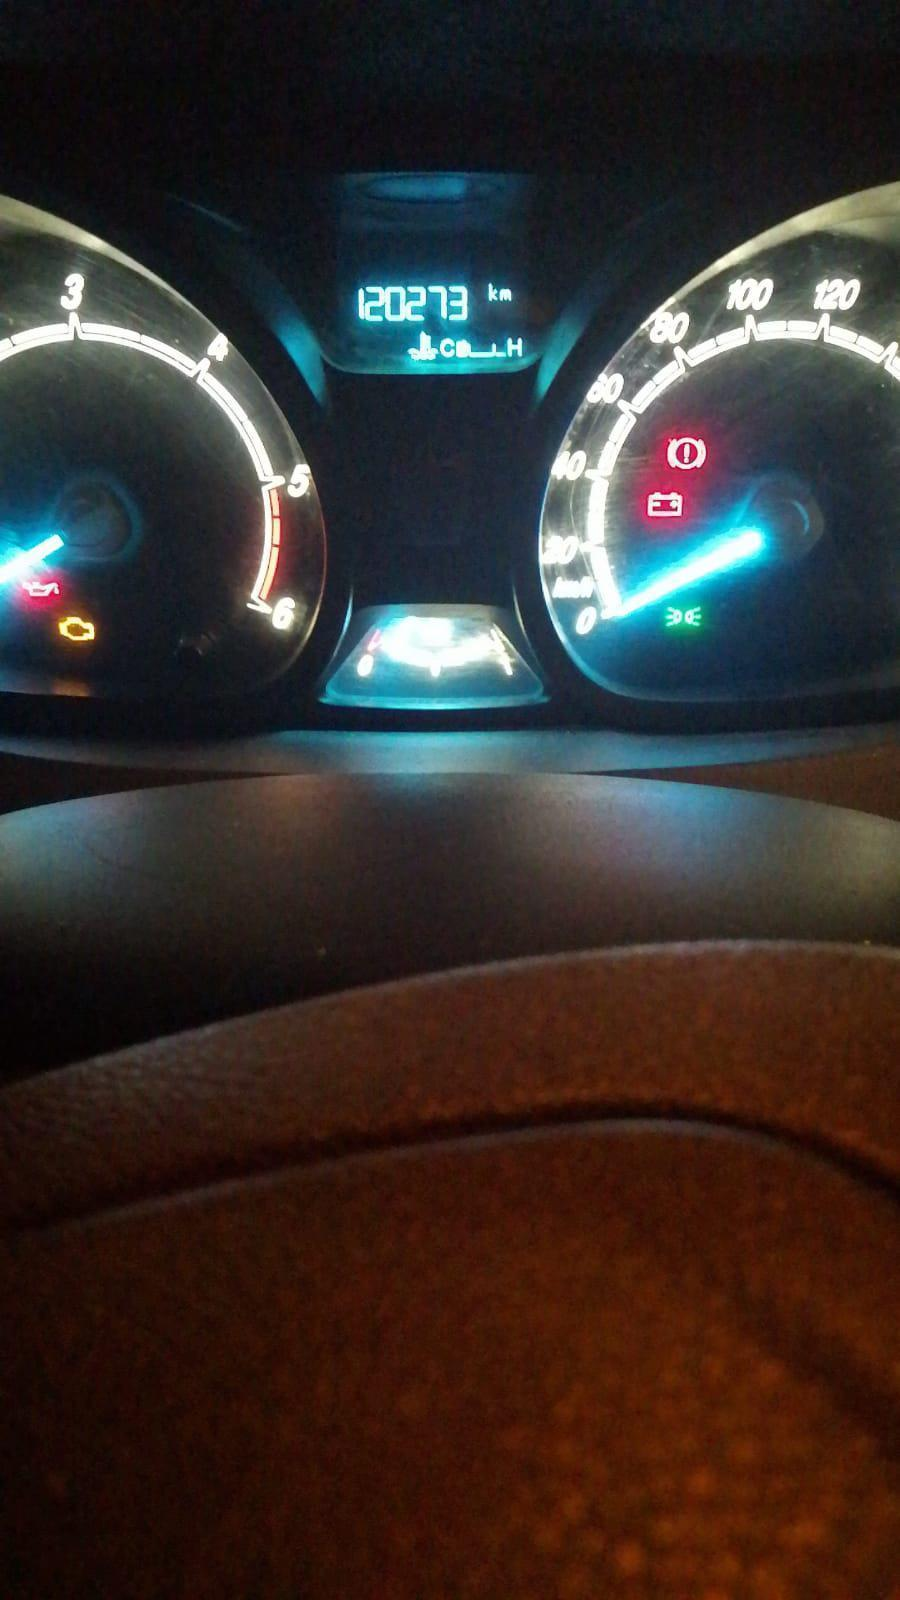0: (384, 286, 404, 322)
1: (355, 285, 365, 325)
2: (405, 284, 425, 323), (365, 284, 384, 323)
3: (448, 284, 468, 321)
7: (427, 284, 447, 322)
X: (505, 333, 527, 362), (438, 336, 455, 359), (498, 286, 515, 303), (486, 281, 497, 302)
odometer: (329, 255, 538, 373)
